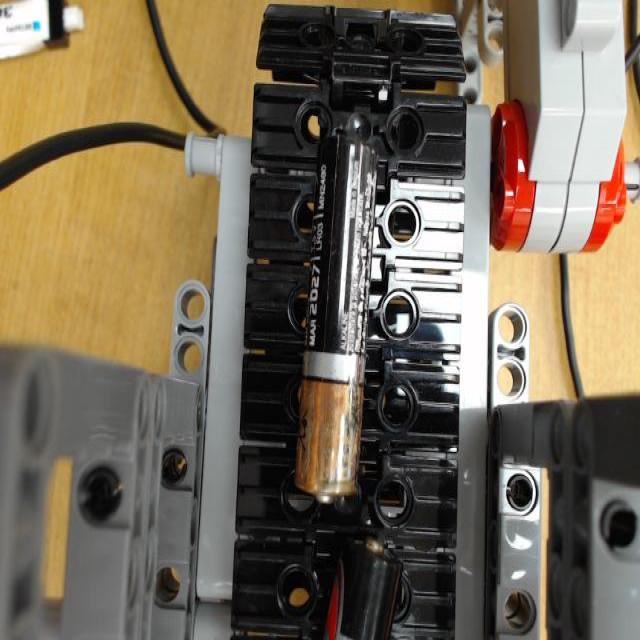AAA: (290, 144, 380, 512)
